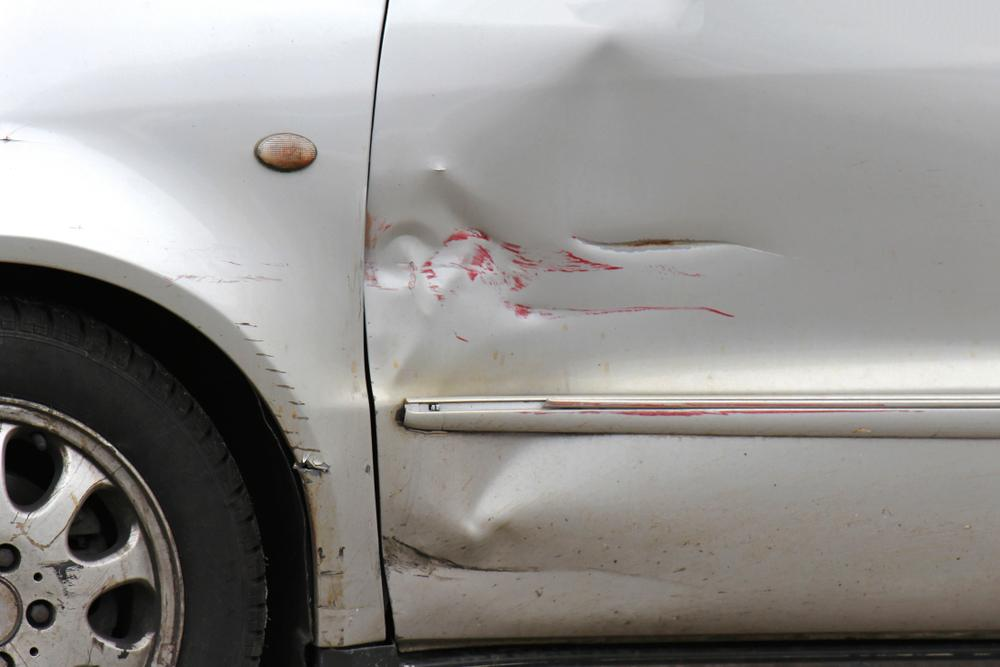dent: (364, 43, 777, 396), (386, 435, 695, 630)
scratch: (230, 320, 336, 500)
